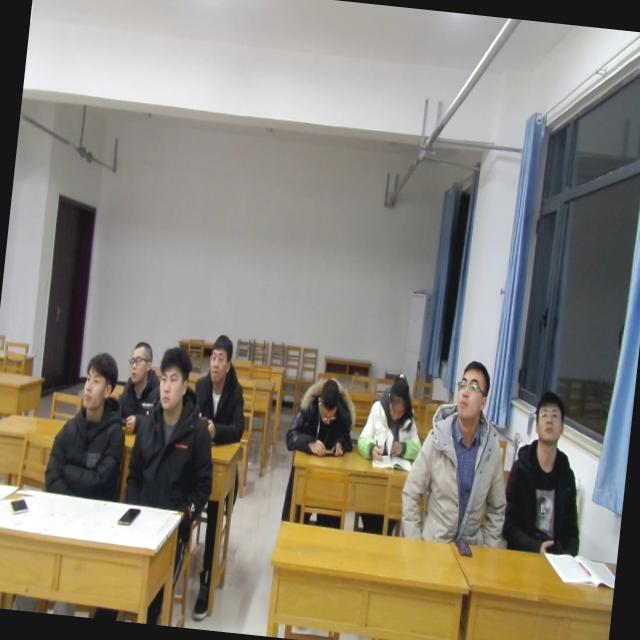down: (380, 368, 413, 430), (312, 374, 344, 428)
lookup: (152, 338, 197, 418), (76, 343, 122, 419), (451, 352, 494, 426), (528, 390, 568, 450), (201, 323, 237, 385), (124, 336, 154, 386)
sit: (397, 354, 522, 554), (121, 342, 226, 517), (502, 387, 595, 555), (42, 346, 137, 501), (356, 366, 427, 482), (282, 362, 362, 459), (191, 332, 254, 442), (116, 331, 162, 421)
